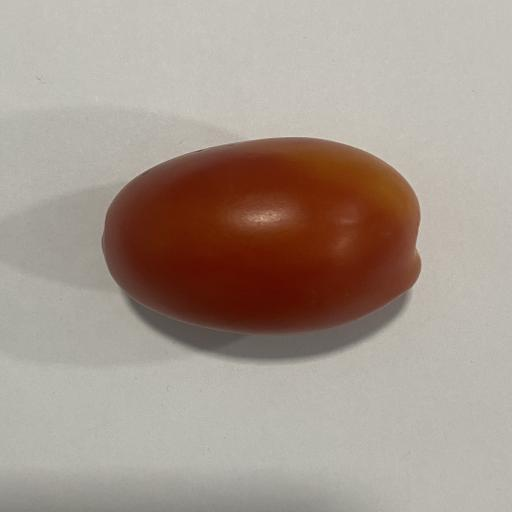ripe: (102, 138, 421, 334)
